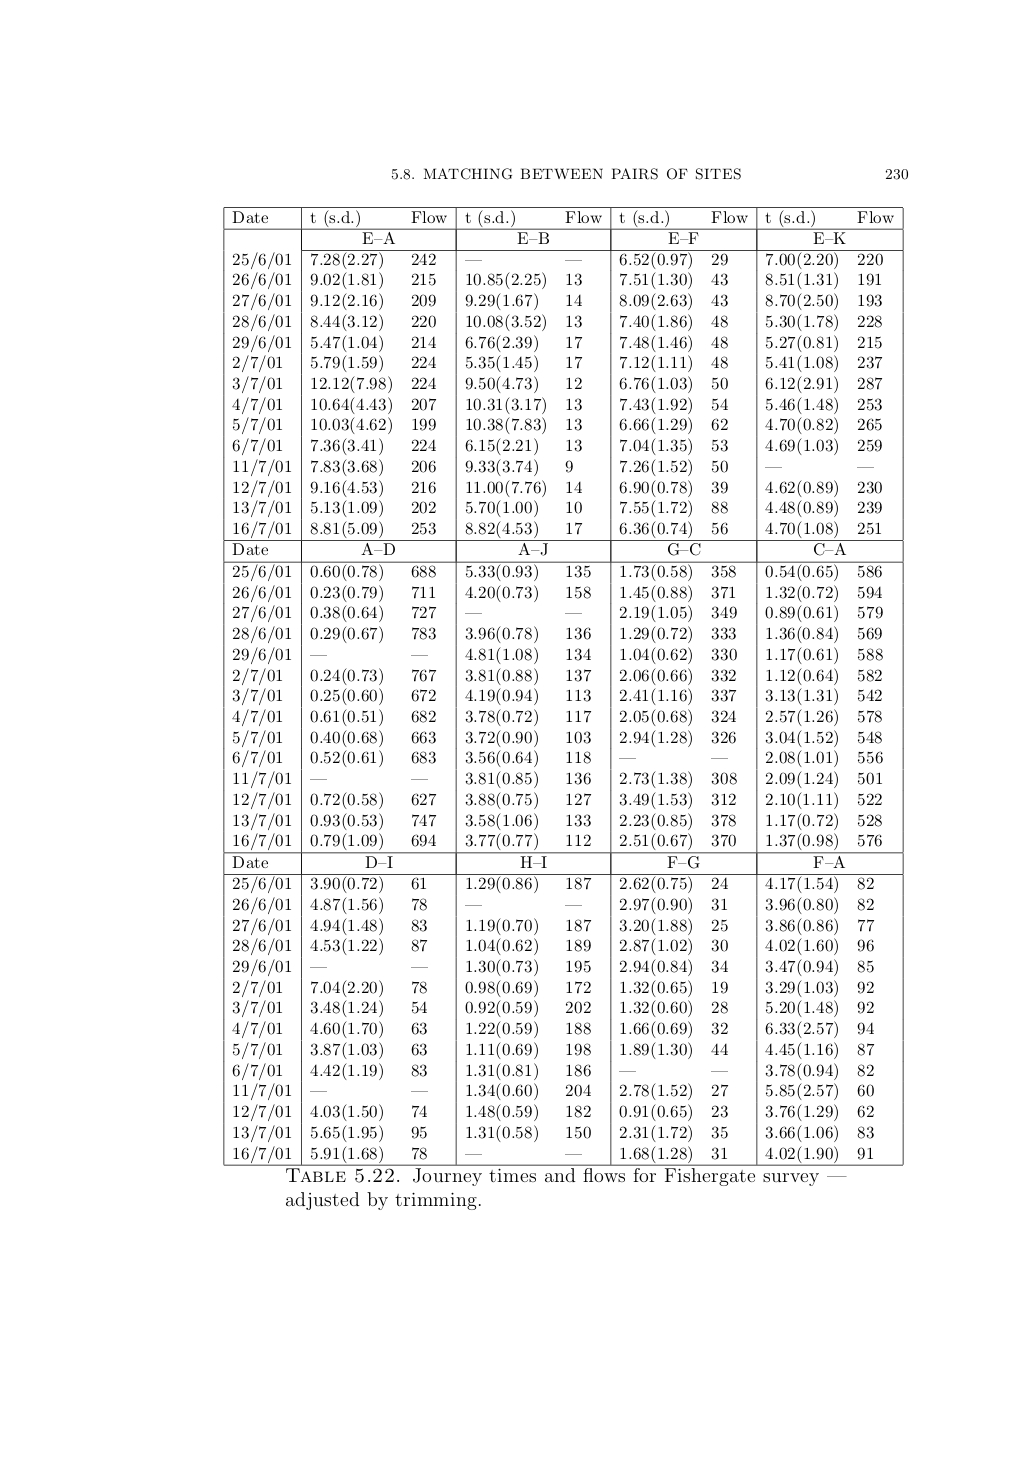Table: (223, 207, 902, 1165)
